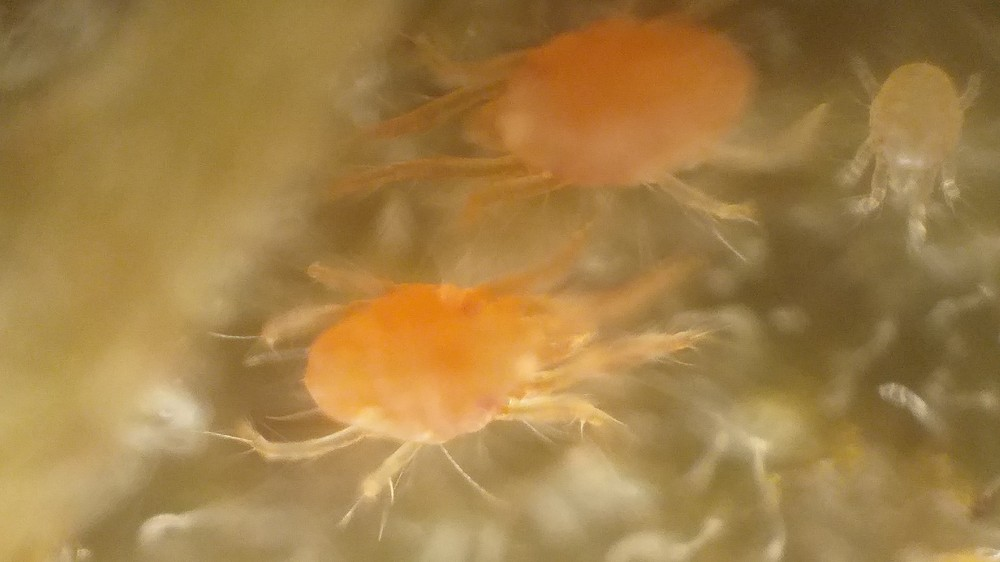Aracnido Rojo: (231, 230, 719, 503), (352, 18, 832, 238), (848, 39, 983, 249)
